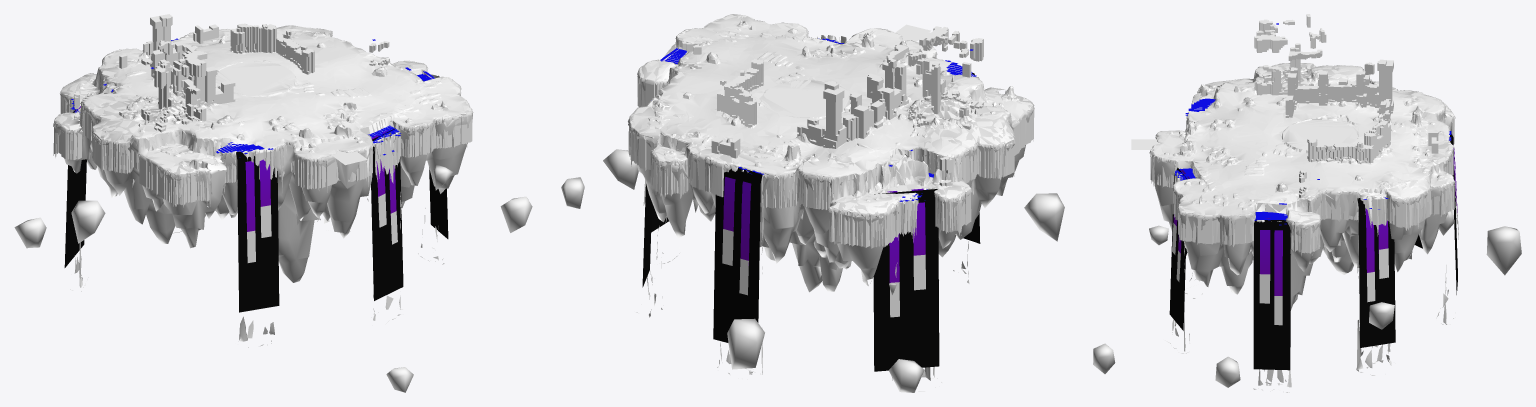
The model's file is island.glb.
3 views of the same model, side by side, from view 1: azimuth 30°, elevation 25°; view 2: azimuth 150°, elevation 25°; view 3: azimuth 270°, elevation 25° (orthographic). The views are drawn at different scales.
Visible parts, largest first — view 1: island, island3_col, island0_col, island2_col, island1_col, ruins0_col, ruins1_col; view 2: island, island0_col, island2_col, island3_col, ruins0_col, ruins1_col, island1_col; view 3: island, island3_col, island2_col, ruins1_col, island1_col, ruins0_col, island0_col.
Boxes of the visible parts, x1,y1,x2,y2 form: island: (14,25,532,392); island3_col: (275,25,472,183); island0_col: (53,48,194,207); island2_col: (182,25,376,192); island1_col: (119,29,283,201); ruins0_col: (74,17,235,132); ruins1_col: (150,14,389,102); island: (561,14,1064,392); island0_col: (779,96,1034,248); island2_col: (636,28,936,198); island3_col: (628,14,837,166); ruins0_col: (797,26,983,186); ruins1_col: (682,41,908,158); island1_col: (687,57,1018,216); island: (1093,23,1521,392); island3_col: (1173,148,1426,256); island2_col: (1150,111,1454,218); ruins1_col: (1285,49,1438,197); island1_col: (1187,69,1453,175); ruins0_col: (1254,14,1393,121); island0_col: (1198,63,1454,143).
Size of what is drawn, in the model's own units: 60.79 by 40.19 by 55.77.
